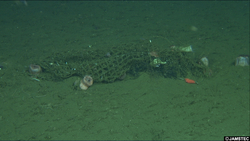fishing net: (26, 43, 218, 89)
